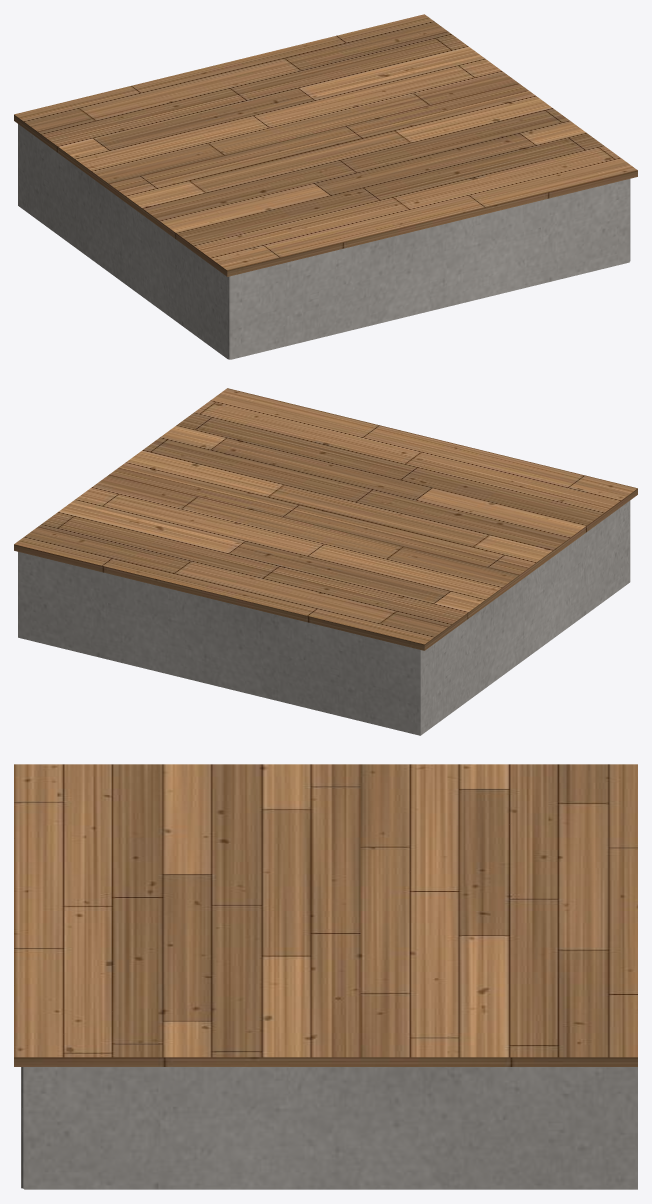
The model's file is floor_wood_e0_0_20_0.glb.
3 views of the same model, one above another, from view 1: azimuth 30°, elevation 25°; view 2: azimuth 150°, elevation 25°; view 3: azimuth 270°, elevation 25° (orthographic). The views are drawn at different scales.
Visible parts, largest first — view 1: floor_wood_e0_0_20_0_floor, floor_wood_e0_0_20_0_concrete; view 2: floor_wood_e0_0_20_0_floor, floor_wood_e0_0_20_0_concrete; view 3: floor_wood_e0_0_20_0_floor, floor_wood_e0_0_20_0_concrete.
Boxes of the visible parts, left/top/right/bottom form: floor_wood_e0_0_20_0_floor: left=14, top=14, right=637, bottom=276; floor_wood_e0_0_20_0_concrete: left=18, top=124, right=630, bottom=359; floor_wood_e0_0_20_0_floor: left=14, top=388, right=637, bottom=650; floor_wood_e0_0_20_0_concrete: left=18, top=500, right=630, bottom=735; floor_wood_e0_0_20_0_floor: left=14, top=764, right=637, bottom=1066; floor_wood_e0_0_20_0_concrete: left=21, top=1067, right=637, bottom=1189.
Bounding box in the file's own units: 2 × 0.43 × 1.8.
2 materials, 2 textured.
